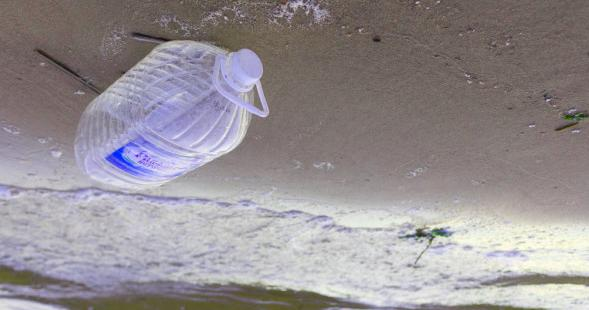Plastic: (68, 28, 273, 192)
